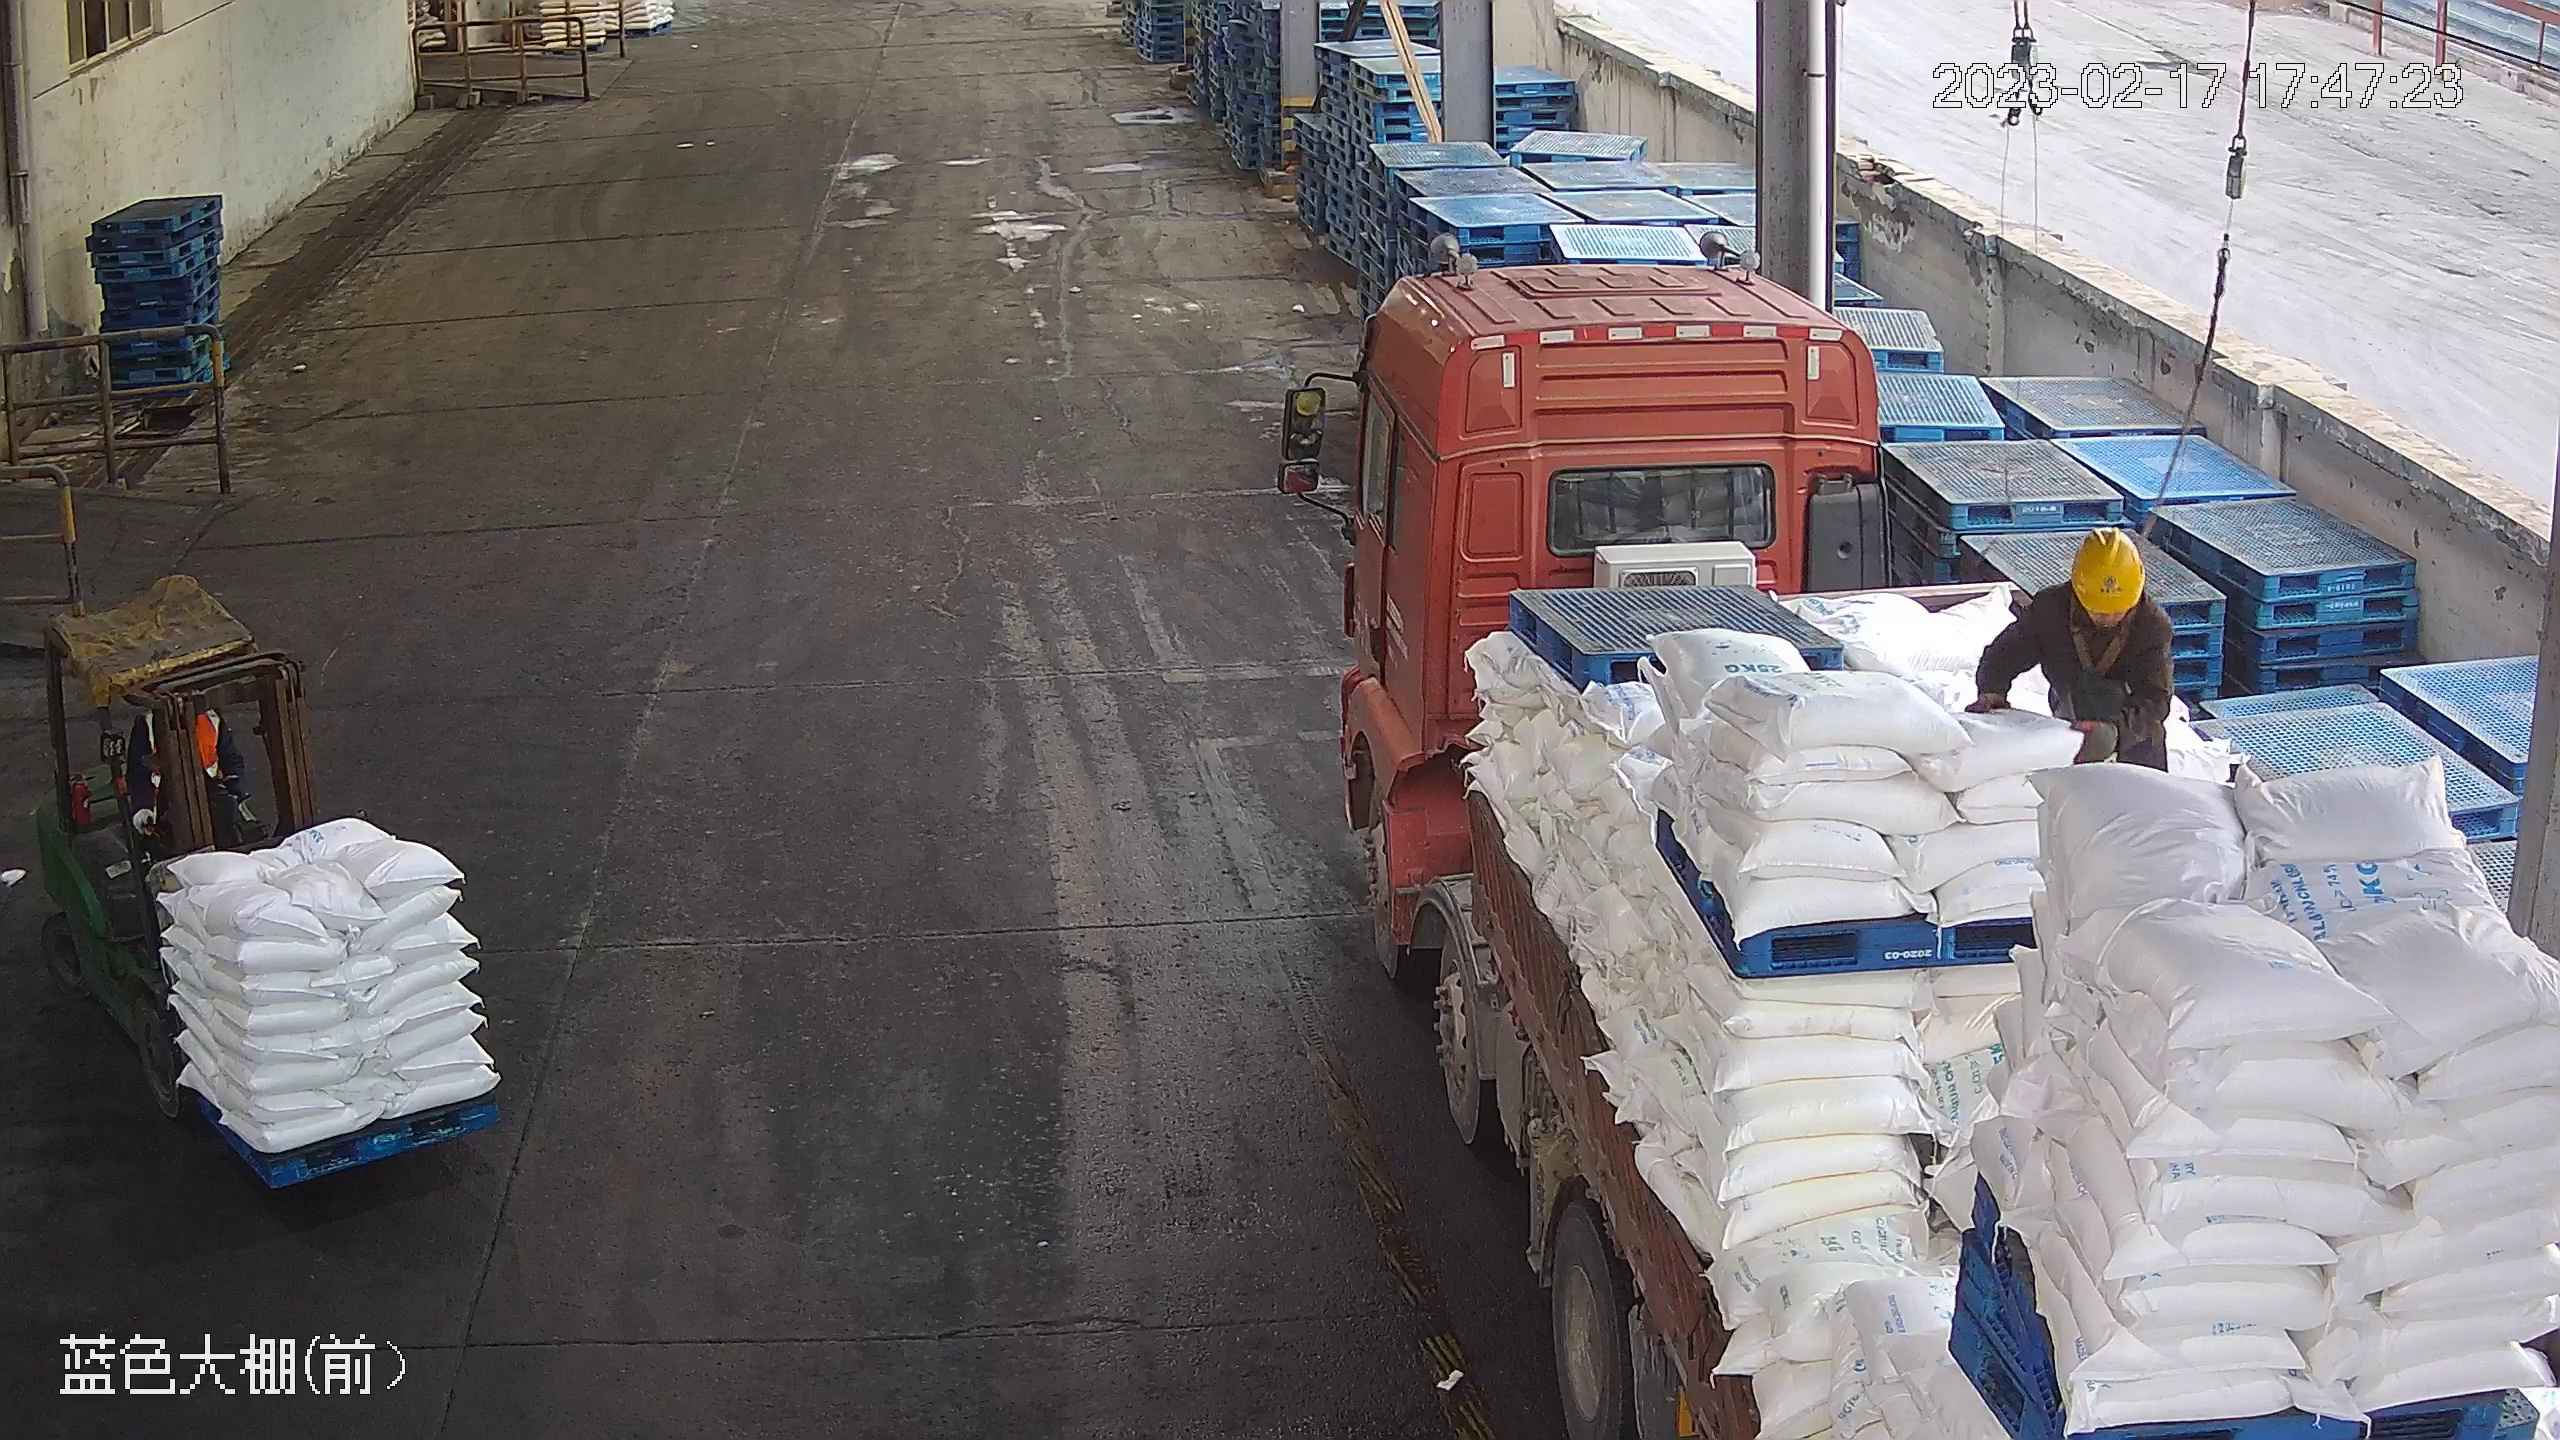belt: (2061, 605, 2133, 672)
head: (2027, 524, 2165, 645)
helmet: (2069, 525, 2144, 611)
people: (1969, 523, 2173, 788)
truck: (1255, 251, 2558, 1440)
